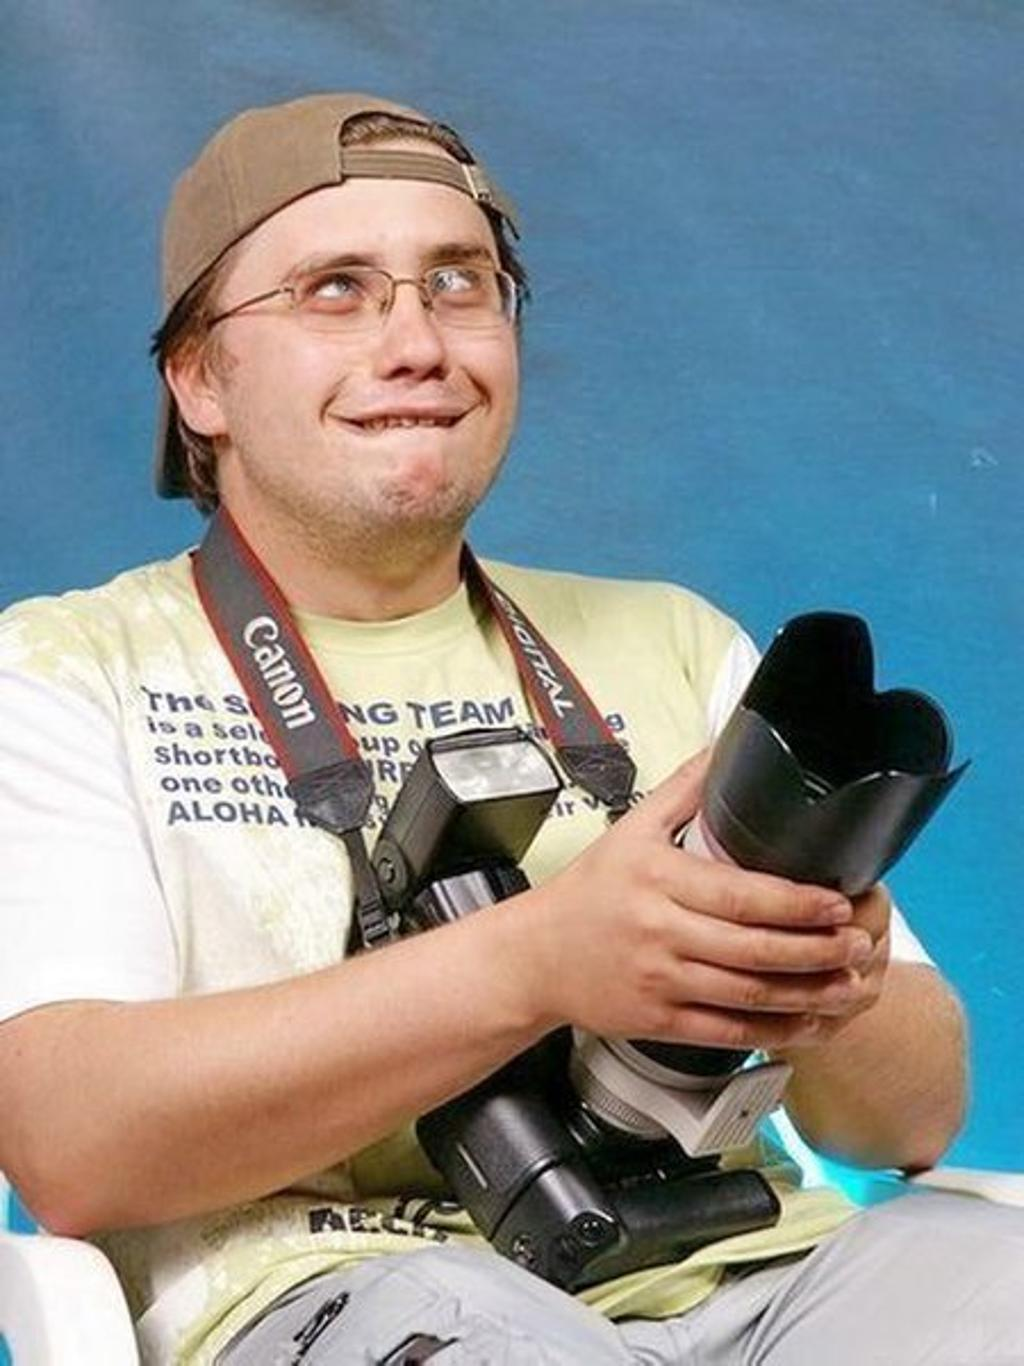face: (213, 139, 520, 518)
